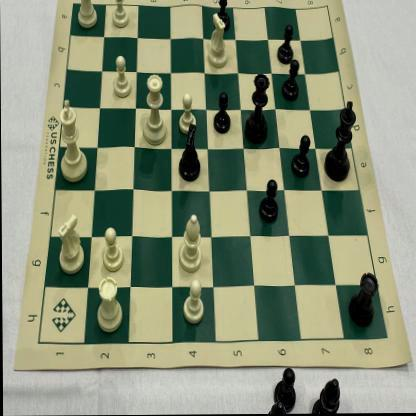black-king: (322, 96, 358, 186)
black-knight: (172, 123, 204, 185)
black-pawn: (257, 180, 282, 230), (288, 136, 314, 180), (278, 60, 302, 103), (274, 22, 296, 67), (212, 90, 232, 136), (210, 0, 233, 32)
black-queen: (241, 69, 271, 147)
black-rook: (346, 264, 379, 332)
white-bishop: (176, 211, 206, 276)
white-king: (54, 97, 89, 185)
white-knight: (53, 212, 87, 276), (206, 10, 230, 74)
white-pawn: (180, 274, 208, 328), (99, 224, 125, 275), (176, 90, 200, 136), (110, 58, 133, 100), (109, 0, 130, 30)
white-queen: (139, 68, 168, 150)
white-rook: (93, 274, 126, 335), (71, 0, 100, 32)
